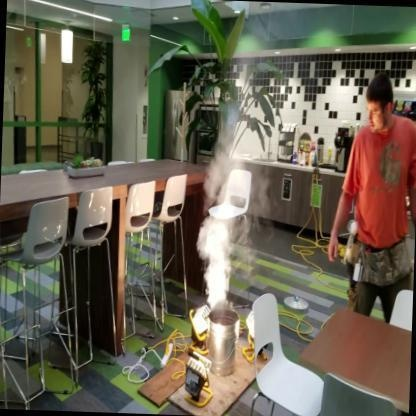smoke: (199, 213, 236, 305)
